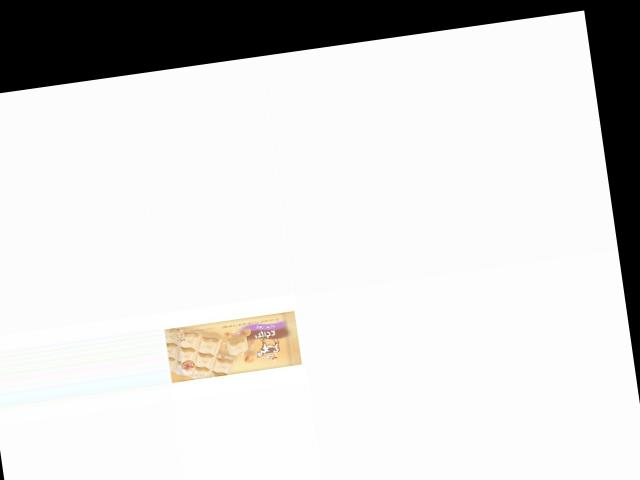chocolate: (163, 306, 306, 382)
